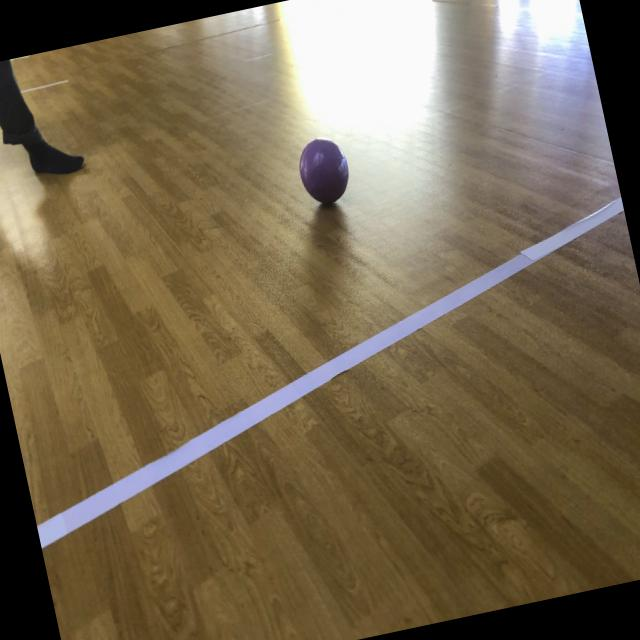purple_ball: (292, 132, 354, 207)
